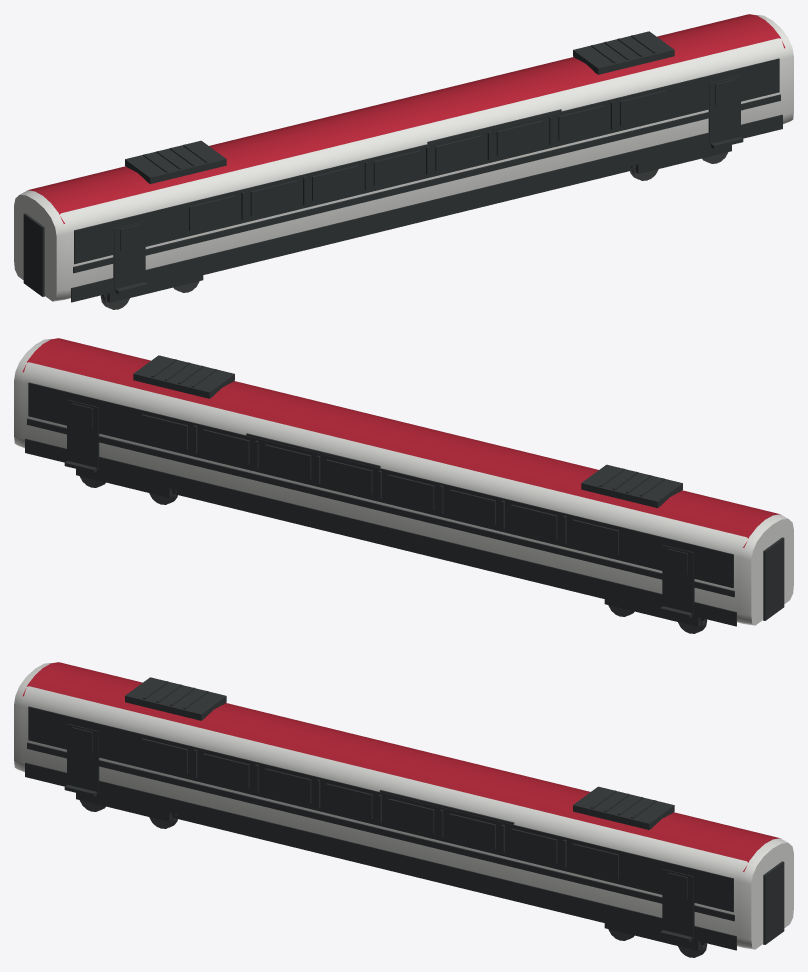
Rendered from railjet-classic-first.glb.
The picture shows the model from 3 angles, top to bottom: view 1: azimuth 30°, elevation 25°; view 2: azimuth 150°, elevation 25°; view 3: azimuth 330°, elevation 25°; orthographic projection.
Visible parts, largest first — view 1: railjet_first_lofted_body, first_red_roof, first_window_band_-1, first_lower_skirt_-1, first_red_belt_-1, first_hvac_1, first_underframe_spine, first_hvac_0, gangway_1.002, first_door_-1_0, first_door_-1_1, first_window_-1_3 (+9 smaller); view 2: railjet_first_lofted_body, first_red_roof, first_window_band_1, first_lower_skirt_1, first_red_belt_1, first_hvac_1, first_underframe_spine, first_hvac_0, gangway_1.002, first_door_1_0, first_door_1_1, first_bogie_b (+9 smaller); view 3: railjet_first_lofted_body, first_red_roof, first_window_band_-1, first_lower_skirt_-1, first_red_belt_-1, first_hvac_0, first_underframe_spine, first_hvac_1, gangway_0.002, first_door_-1_1, first_door_-1_0, first_window_-1_2 (+9 smaller).
Part boxes in pixels (x1=…): railjet_first_lofted_body: x1=14, y1=15, x2=793, y2=301; first_red_roof: x1=27, y1=14, x2=785, y2=223; first_window_band_-1: x1=74, y1=58, x2=779, y2=264; first_lower_skirt_-1: x1=71, y1=114, x2=782, y2=302; first_red_belt_-1: x1=73, y1=94, x2=780, y2=273; first_hvac_1: x1=573, y1=31, x2=674, y2=74; first_underframe_spine: x1=203, y1=166, x2=635, y2=274; first_hvac_0: x1=125, y1=140, x2=226, y2=184; gangway_1.002: x1=23, y1=213, x2=44, y2=296; first_door_-1_0: x1=113, y1=221, x2=145, y2=291; first_door_-1_1: x1=708, y1=75, x2=740, y2=145; first_window_-1_3: x1=373, y1=150, x2=420, y2=185; railjet_first_lofted_body: x1=14, y1=339, x2=793, y2=625; first_red_roof: x1=22, y1=338, x2=780, y2=547; first_window_band_1: x1=28, y1=382, x2=733, y2=588; first_lower_skirt_1: x1=25, y1=438, x2=736, y2=626; first_red_belt_1: x1=27, y1=418, x2=734, y2=597; first_hvac_1: x1=133, y1=355, x2=234, y2=398; first_underframe_spine: x1=172, y1=490, x2=604, y2=598; first_hvac_0: x1=581, y1=464, x2=682, y2=508; gangway_1.002: x1=763, y1=537, x2=784, y2=620; first_door_1_0: x1=662, y1=545, x2=694, y2=615; first_door_1_1: x1=67, y1=399, x2=99, y2=469; first_bogie_b: x1=76, y1=469, x2=177, y2=504; railjet_first_lofted_body: x1=14, y1=663, x2=793, y2=949; first_red_roof: x1=22, y1=662, x2=780, y2=871; first_window_band_-1: x1=28, y1=706, x2=733, y2=912; first_lower_skirt_-1: x1=25, y1=762, x2=736, y2=950; first_red_belt_-1: x1=27, y1=742, x2=734, y2=921; first_hvac_0: x1=125, y1=677, x2=226, y2=720; first_underframe_spine: x1=172, y1=814, x2=604, y2=922; first_hvac_1: x1=573, y1=786, x2=674, y2=829; gangway_0.002: x1=763, y1=861, x2=784, y2=944; first_door_-1_1: x1=662, y1=869, x2=694, y2=939; first_door_-1_0: x1=67, y1=723, x2=99, y2=793; first_window_-1_2: x1=264, y1=768, x2=311, y2=803.
Bounding box in the file's own units: 26.66 × 4.32 × 3.35.
